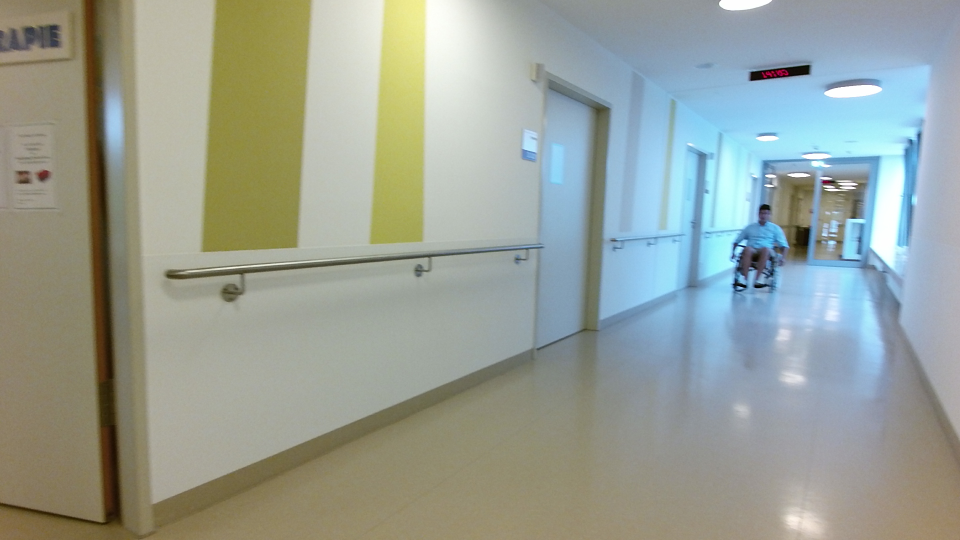wheelchair: (723, 196, 790, 298)
